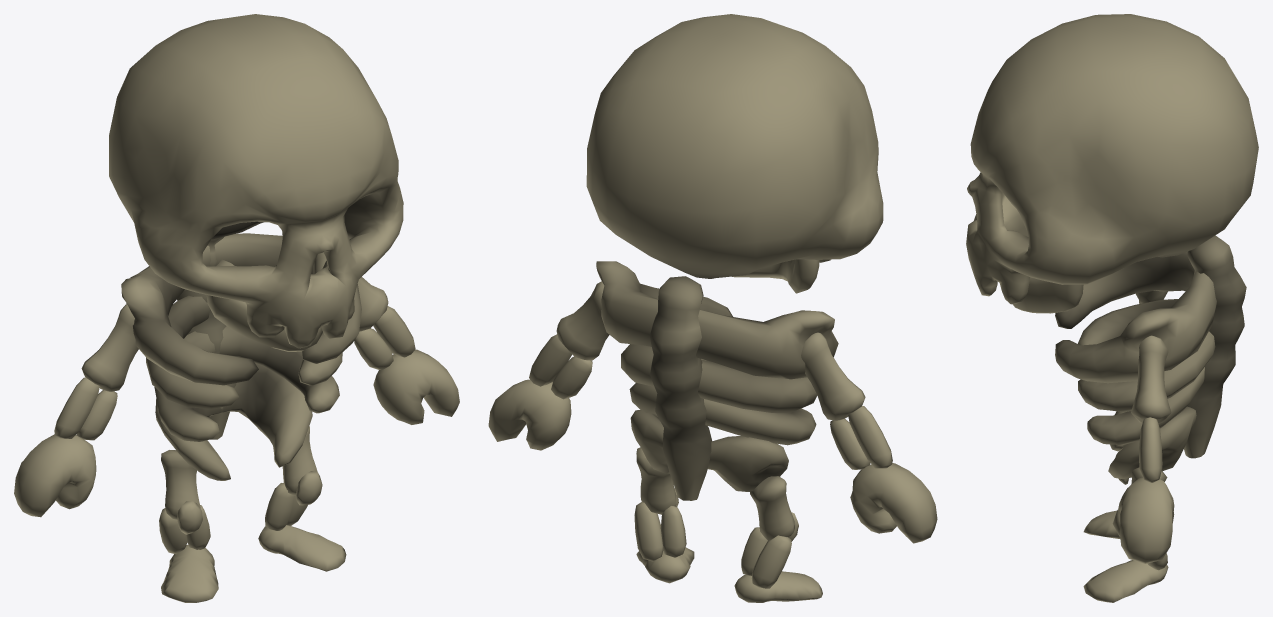
File: skeleton_smoothed.FBX
The picture shows the model from 3 angles, left to right: view 1: azimuth 30°, elevation 25°; view 2: azimuth 150°, elevation 25°; view 3: azimuth 270°, elevation 25°; orthographic projection. The views are drawn at different scales.
Visible parts, largest first — view 1: skeleton_COLLAPSED; view 2: skeleton_COLLAPSED; view 3: skeleton_COLLAPSED.
Boxes of the visible parts, <box> form: skeleton_COLLAPSED: <box>14,14,459,602</box>; skeleton_COLLAPSED: <box>488,14,937,602</box>; skeleton_COLLAPSED: <box>966,14,1258,602</box>.
Size of the model in its own units: 127 by 75.81 by 152.
